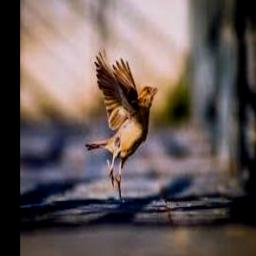Sparrow: (86, 48, 158, 202)
